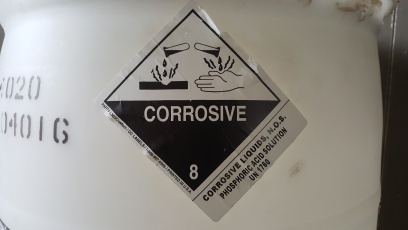Corrosive: (106, 11, 275, 181)
